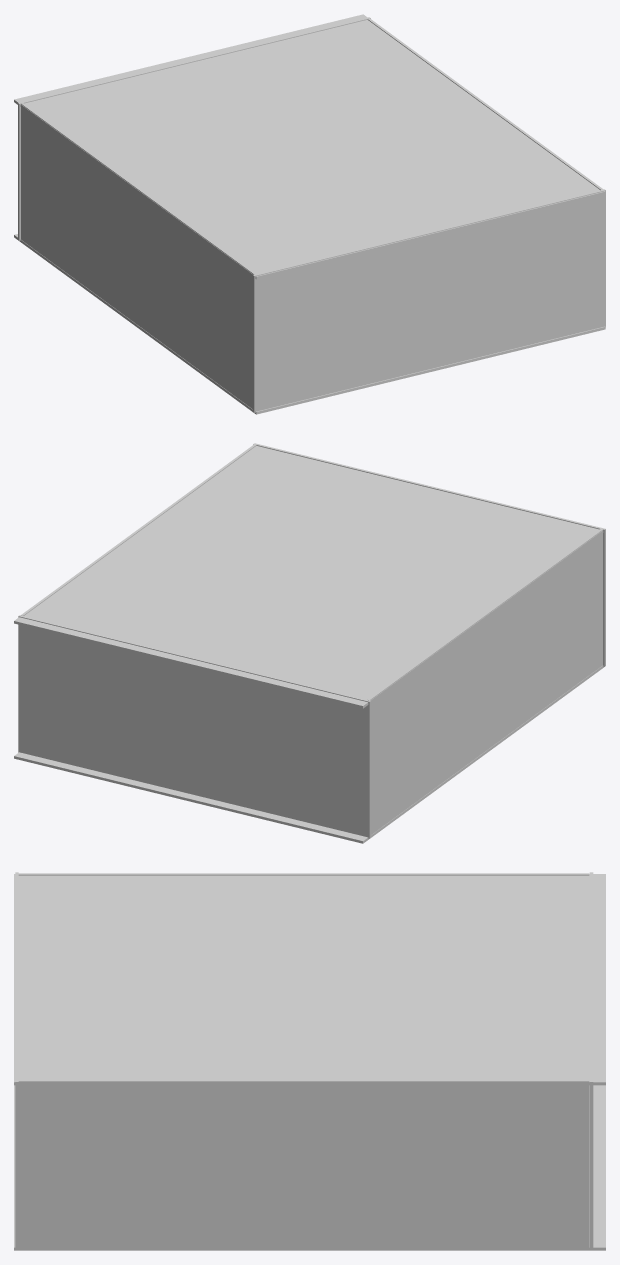
Rendered from 3D_Lab.gltf.
The picture shows the model from 3 angles, top to bottom: view 1: azimuth 30°, elevation 25°; view 2: azimuth 150°, elevation 25°; view 3: azimuth 270°, elevation 25°; orthographic projection. The views are drawn at different scales.
Visible parts, largest first — view 1: CEILING, BACKWALL, LEFTWALL, FLOOR, FRONTWALL, RIGHTWALL; view 2: CEILING, FRONTWALL, LEFTWALL, FLOOR, BACKWALL, RIGHTWALL; view 3: CEILING, RIGHTWALL, FLOOR, FRONTWALL, LEFTWALL, BACKWALL.
Part boxes in pixels (bbox=[...]): CEILING: bbox=[14, 14, 605, 279]; BACKWALL: bbox=[253, 189, 605, 412]; LEFTWALL: bbox=[21, 103, 256, 408]; FLOOR: bbox=[14, 234, 605, 414]; FRONTWALL: bbox=[18, 17, 370, 240]; RIGHTWALL: bbox=[367, 18, 603, 190]; CEILING: bbox=[14, 446, 603, 708]; FRONTWALL: bbox=[18, 615, 370, 838]; LEFTWALL: bbox=[367, 529, 602, 834]; FLOOR: bbox=[14, 665, 604, 843]; BACKWALL: bbox=[253, 443, 605, 666]; RIGHTWALL: bbox=[21, 444, 256, 615]; CEILING: bbox=[14, 874, 605, 1085]; RIGHTWALL: bbox=[18, 1080, 589, 1248]; FLOOR: bbox=[14, 1085, 605, 1250]; FRONTWALL: bbox=[589, 872, 593, 1249]; LEFTWALL: bbox=[18, 873, 589, 875]; BACKWALL: bbox=[15, 872, 18, 1249].
Size of the model in its own units: 0.4457 by 0.1678 by 0.5318.
Materials: 7 (6 with a texture image).
